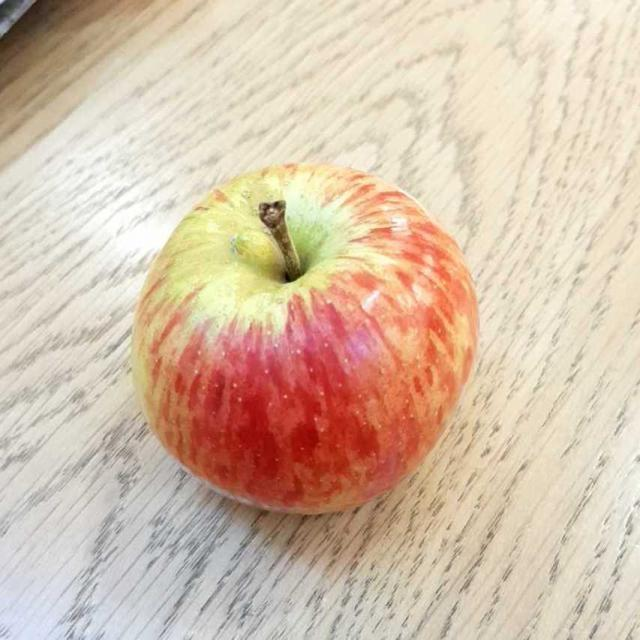apple: (136, 173, 475, 511)
